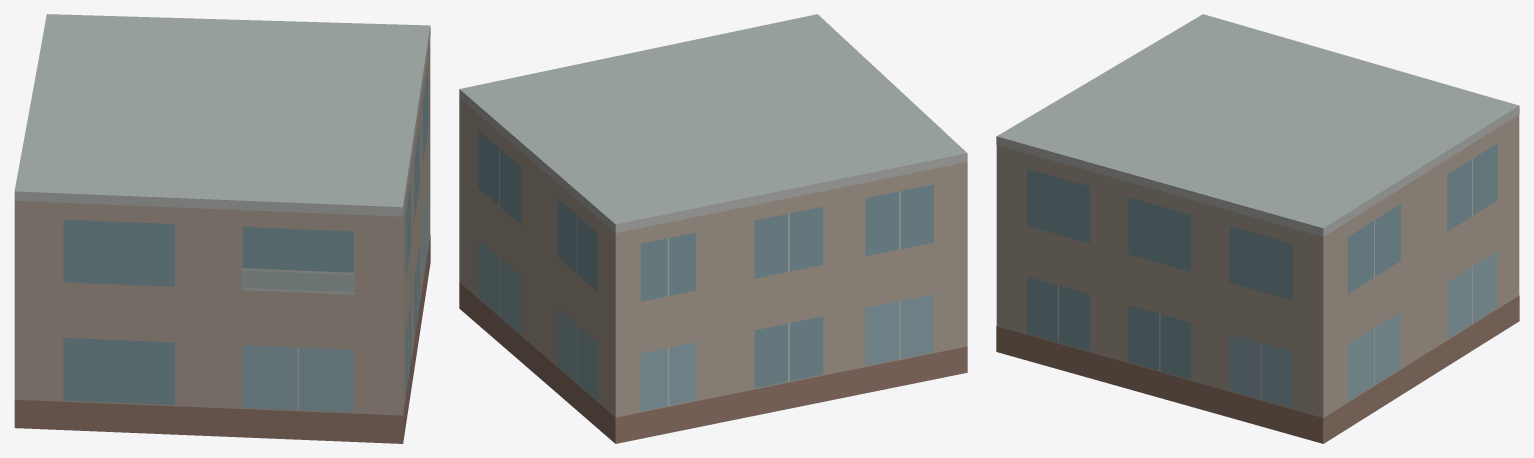
File: survey-upis-32983165.glb
The picture shows the model from 3 angles, left to right: view 1: azimuth 30°, elevation 25°; view 2: azimuth 150°, elevation 25°; view 3: azimuth 270°, elevation 25°; orthographic projection. The views are drawn at different scales.
Visible parts, largest first — view 1: survey-upis-32983165.tmp; view 2: survey-upis-32983165.tmp; view 3: survey-upis-32983165.tmp.
Boxes of the visible parts, box(x1,y1,x2,y2) form: survey-upis-32983165.tmp: box(14, 14, 430, 443); survey-upis-32983165.tmp: box(459, 14, 967, 443); survey-upis-32983165.tmp: box(996, 14, 1519, 443).
Size of the model in its own units: 13.01 by 6.1 by 13.42.
